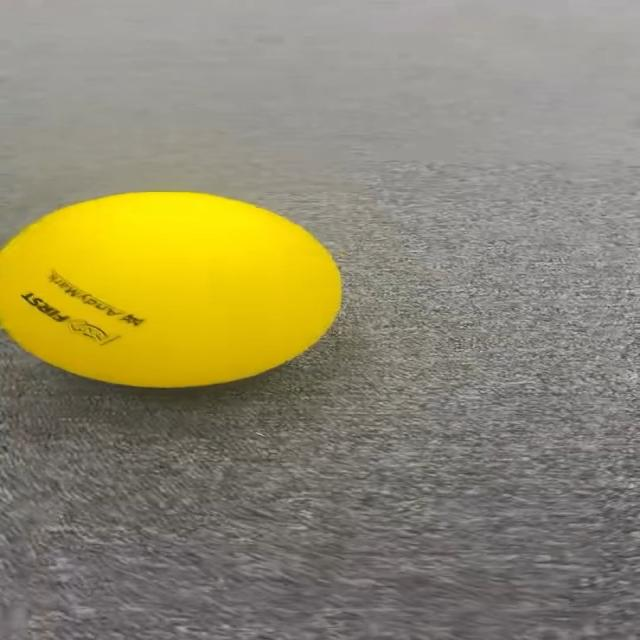Fuels: (3, 193, 343, 384)
